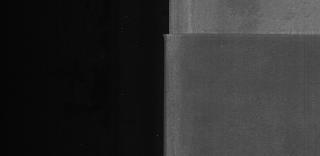welding line: (160, 29, 320, 40)
